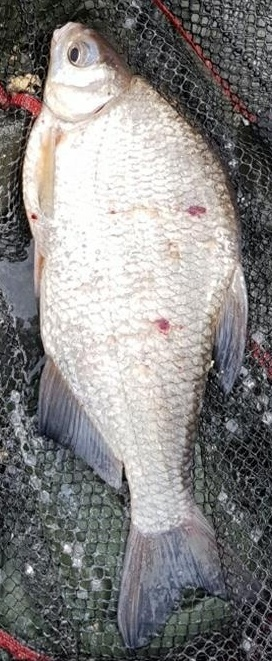Blicca bjoerkna: (20, 20, 252, 641)
